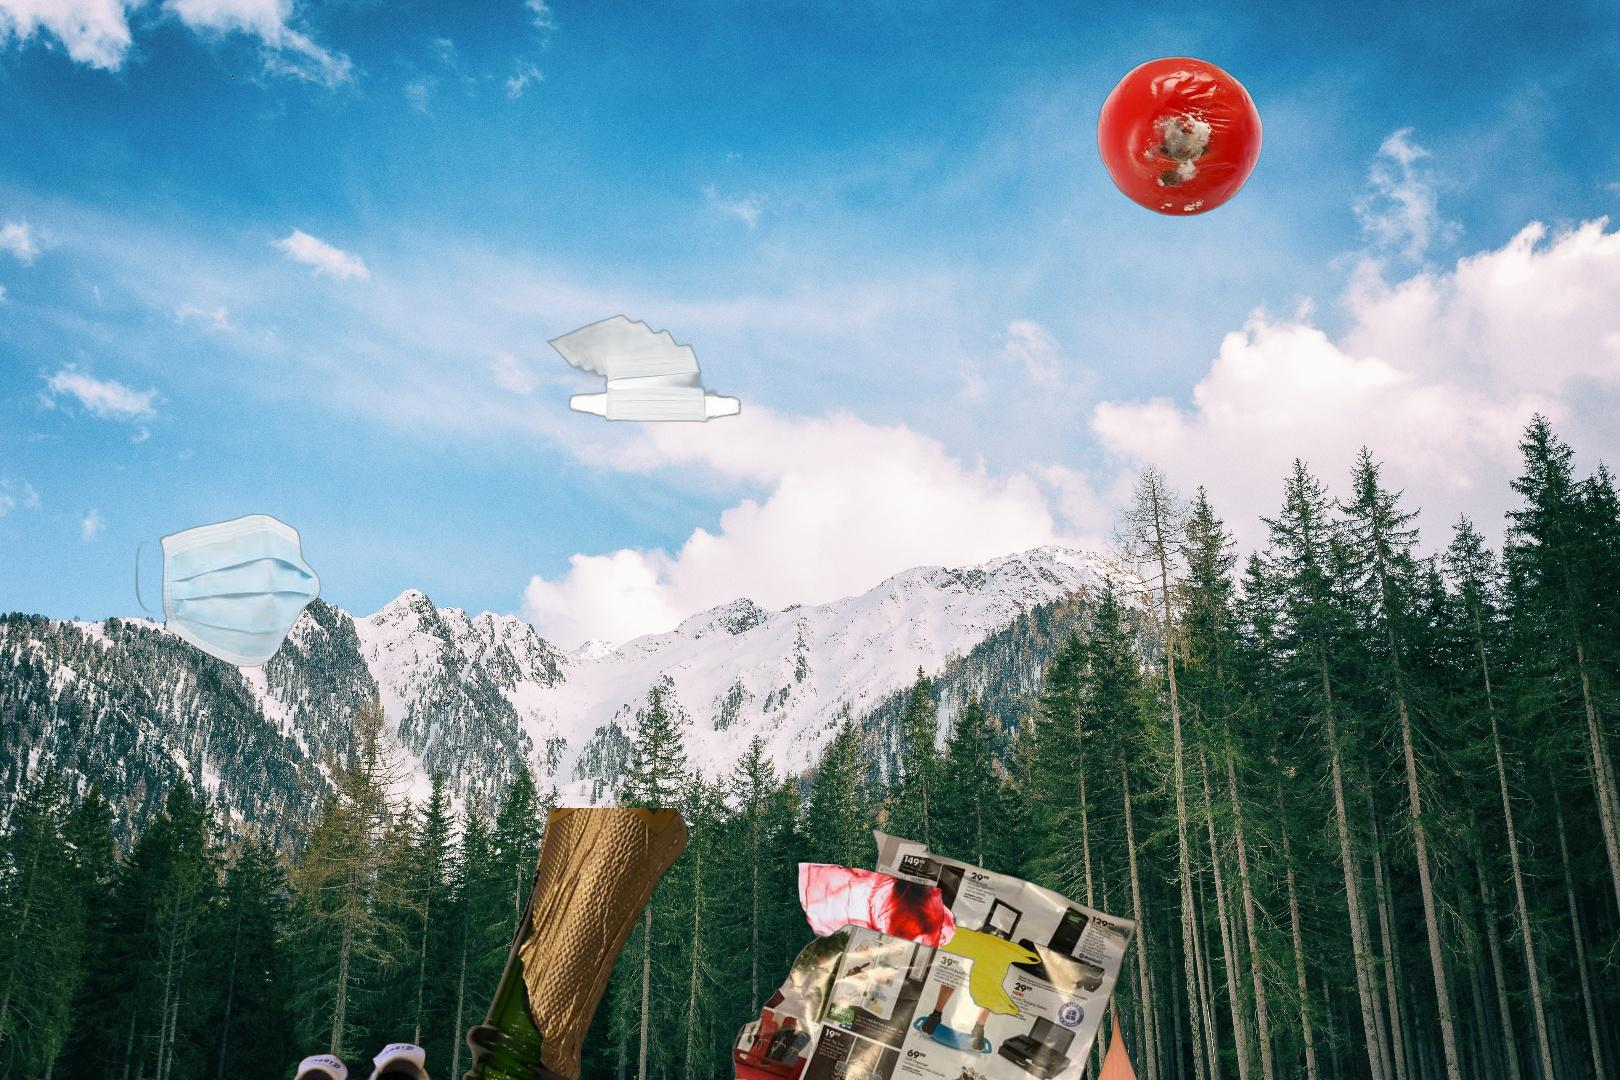biological: (1094, 53, 1266, 217)
clothes: (1038, 1003, 1196, 1080)
glass: (457, 808, 693, 1080)
paper: (725, 826, 1142, 1080)
plastic-bag: (796, 859, 1045, 1019)
shoes: (262, 1037, 451, 1080)
trash: (133, 512, 323, 670), (544, 312, 743, 430)
